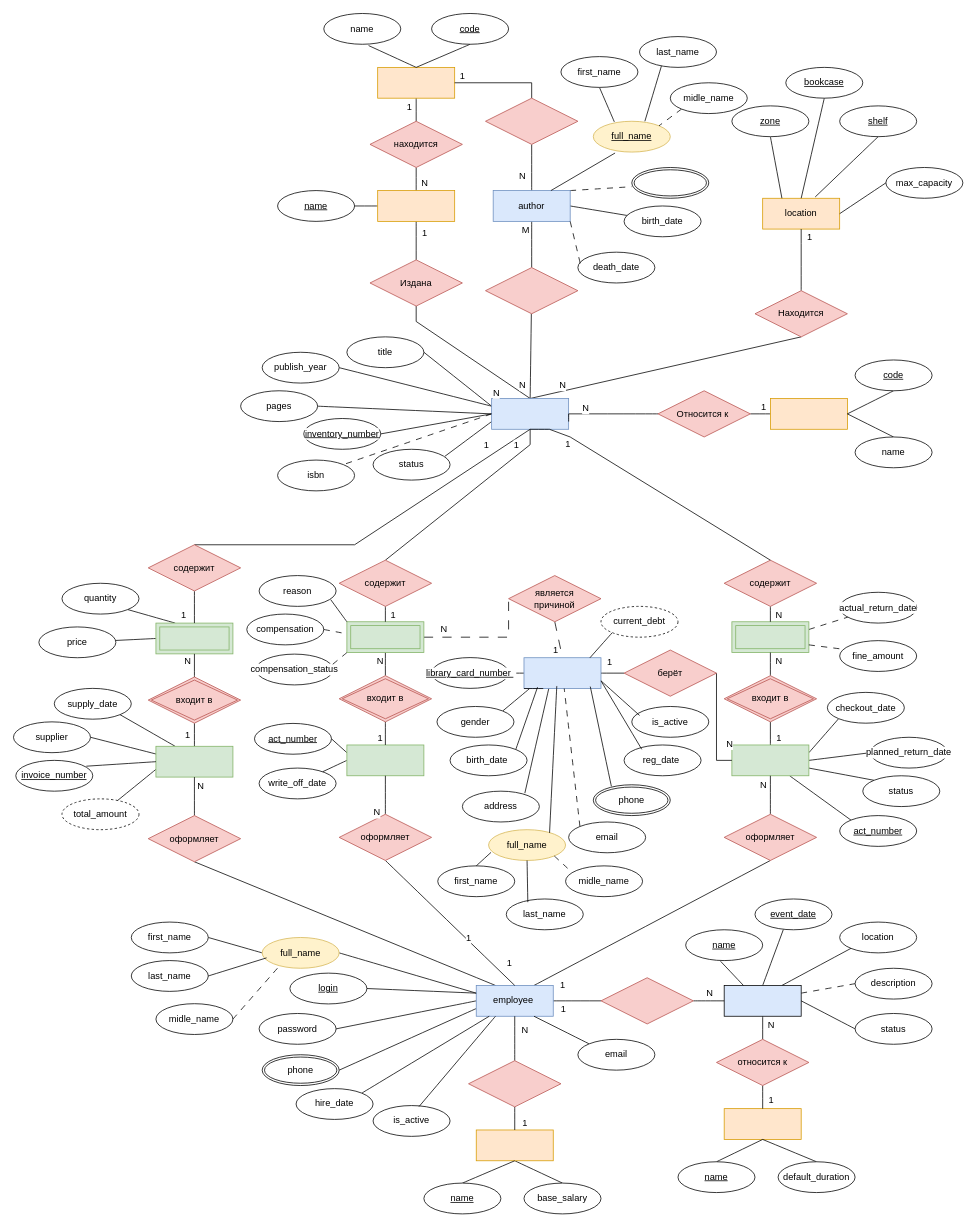
Image size: 976x1227. Some labels were removed from this diagram. The shapes that lost their labels are listed below. From the top down, each one's centre as x and y in pixels, then its label:
the point at 416,82: country
the point at 531,120: родился в
the point at 670,182: pseudonym
the point at 416,205: publisher
the point at 531,290: Написана
the point at 530,413: book
the point at 808,413: bbc_section
the point at 194,638: supply_item
the point at 385,637: write_off_item
the point at 770,637: checkout_item
the point at 562,673: reader
the point at 194,761: supply
the point at 385,760: write_off
the point at 770,760: checkout
the point at 646,1000: проводит
the point at 762,1000: event
the point at 514,1083: Занимает
the point at 762,1123: event_type
the point at 514,1145: position
